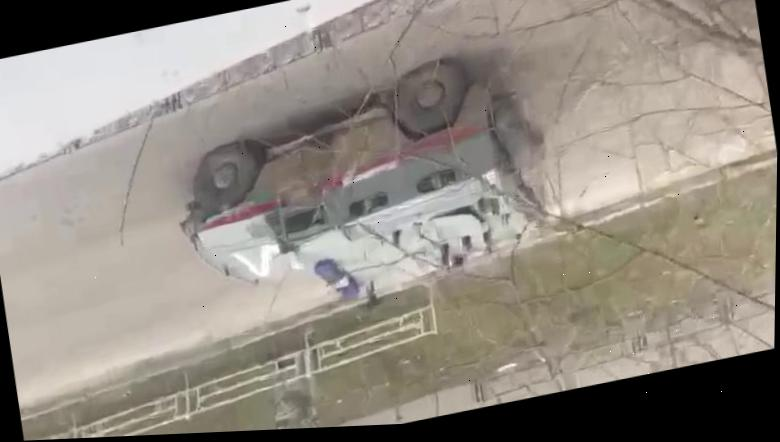armored_car: (157, 38, 563, 336)
